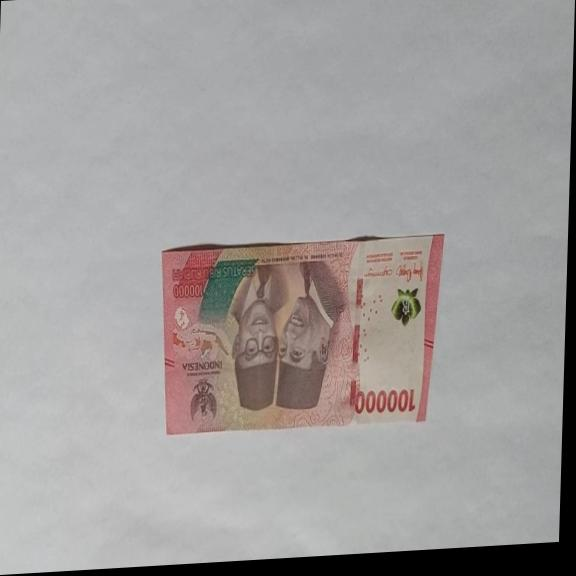Kertas: (154, 230, 444, 440)
